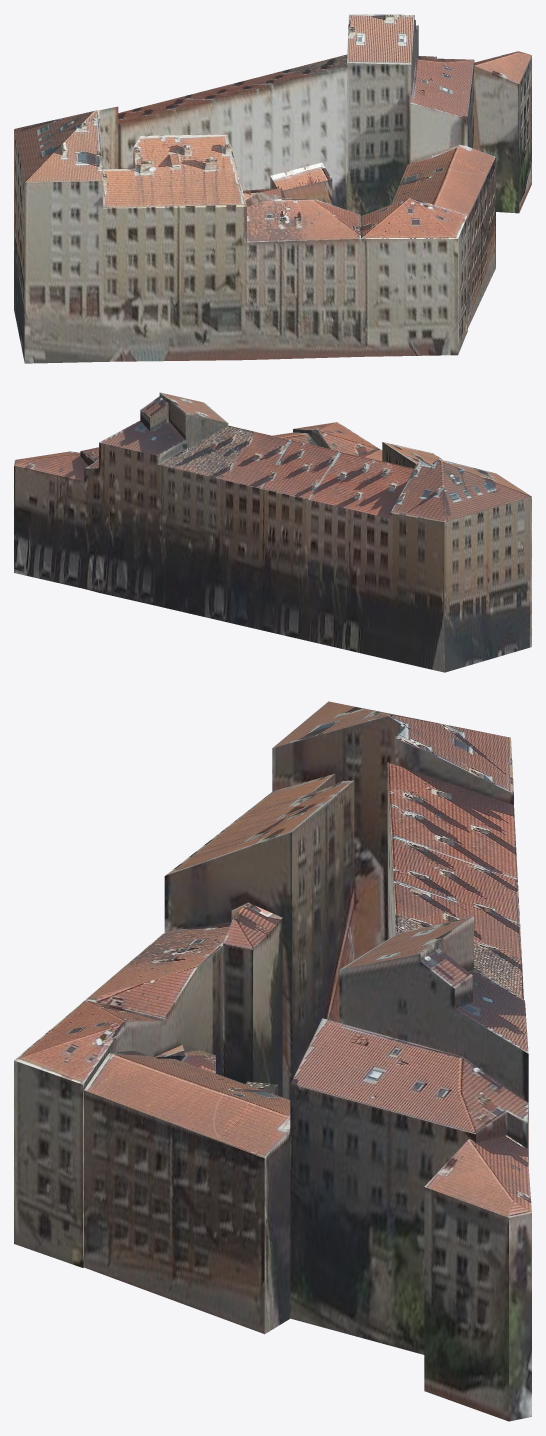
The model's file is LYON_1ER_00084.dae.
The picture shows the model from 3 angles, top to bottom: view 1: azimuth 30°, elevation 25°; view 2: azimuth 150°, elevation 25°; view 3: azimuth 270°, elevation 25°; orthographic projection. The views are drawn at different scales.
Bounding box in the file's own units: 89.91 × 45.28 × 34.3.
2 materials, 2 textured.
